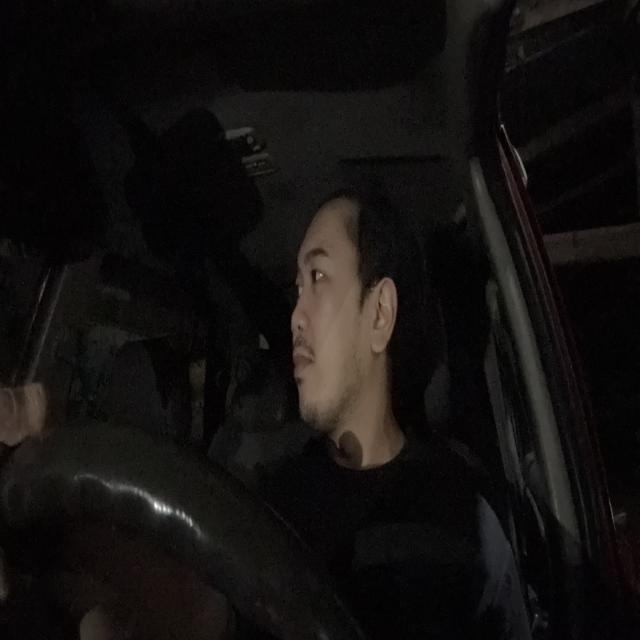open: (305, 241, 336, 297)
